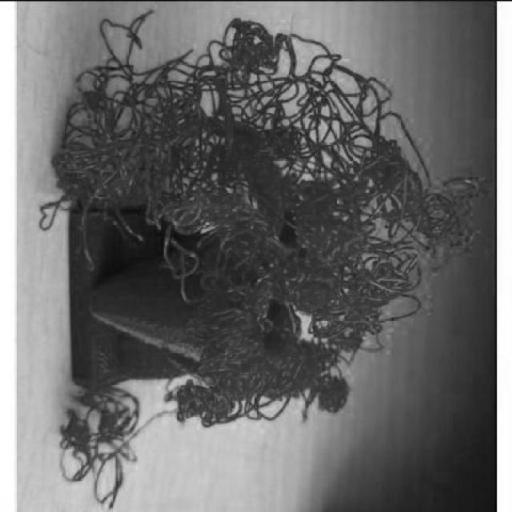spaghetti_and_stringing: (36, 0, 486, 428), (48, 421, 146, 512)
